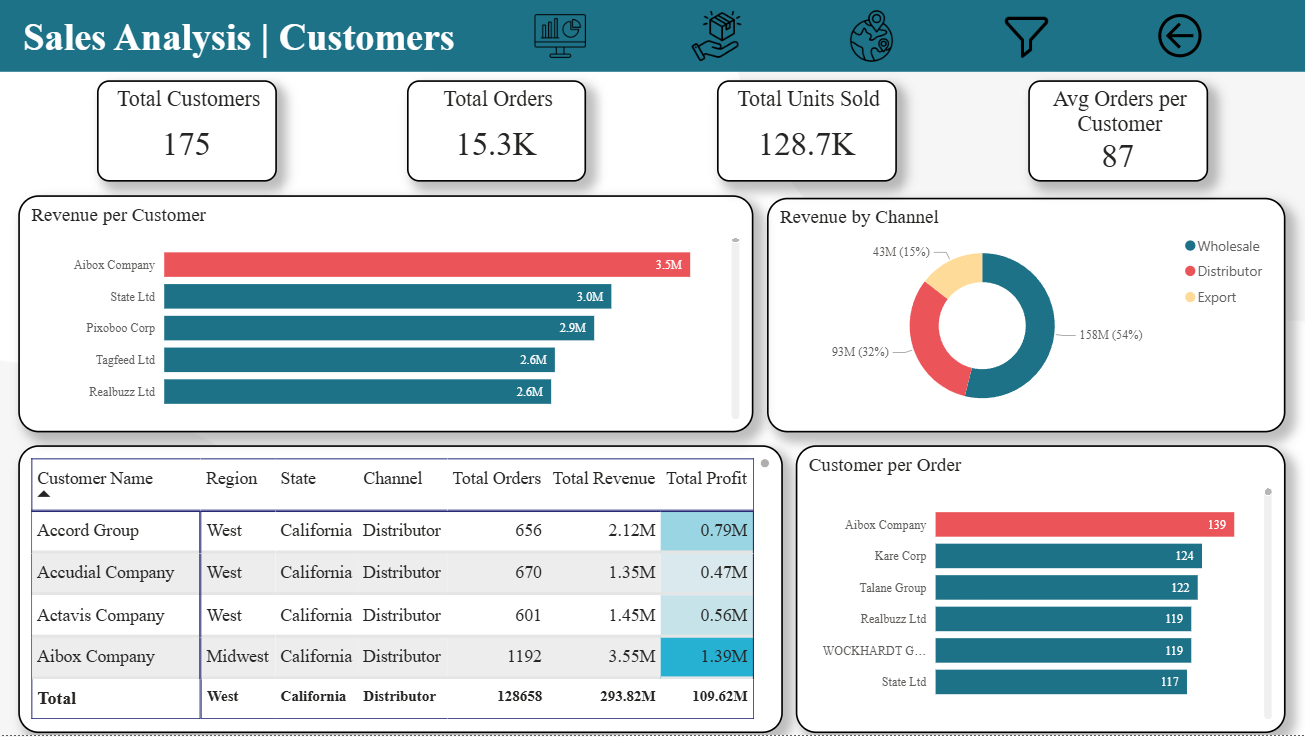

Layout of this report page (visuals, bound fields, positions):
{"tool":"powerbi","page":{"name":"Customers","canvas":[1280,720],"ordinal":3},"visuals":[{"type":"shape","box":[0,0,1280.3,71.4],"z":0},{"type":"textbox","box":[20.8,11,442.7,59.9],"z":1000},{"type":"pivotTable","fields":{"Rows":["sales.customer_name"],"Values":["_Measures.Top Customer Region","_Measures.Top Customer State","Min(sales.channel)","Sum(sales.order_quantity)","Sum(sales.revenue)","Sum(sales.profit)"]},"box":[20.8,436.6,748.4,281.3],"z":2000},{"type":"donutChart","title":"Revenue by Channel","fields":{"Category":["sales.channel"],"Y":["Sum(sales.revenue)"]},"box":[753.3,194.4,507.5,229.9],"z":3000},{"type":"card","title":"Total Customers","fields":{"Values":["Count(sales.customer_name)"]},"box":[97.5,79,176.1,99],"z":4000},{"type":"card","title":"Total Orders","fields":{"Values":["CountNonNull(sales.order_number)"]},"box":[401.5,79,174.9,99],"z":5000},{"type":"card","title":"Avg Orders per Customer","fields":{"Values":["_Measures.Avg Orders per Customer"]},"box":[1008.5,79,176.1,99],"z":6000},{"type":"clusteredBarChart","title":"Customer per Order","fields":{"Category":["sales.customer_name"],"Y":["CountNonNull(sales.order_number)"]},"box":[781.4,436.6,479.4,281.3],"z":7000},{"type":"clusteredBarChart","title":"Revenue per Customer","fields":{"Category":["sales.customer_name"],"Y":["Sum(sales.revenue)"]},"box":[20.8,192,719,232.3],"z":8000},{"type":"card","title":"Total Units Sold","fields":{"Values":["Sum(sales.order_quantity)"]},"box":[704.4,79,176.1,99],"z":9000},{"type":"image","title":"Slicer Image","box":[981.9,11.2,50,50],"z":10000},{"type":"image","box":[830,11.2,50,50],"z":12000},{"type":"image","box":[526.2,11.2,50,50],"z":13000},{"type":"image","box":[678.1,11.2,50,50],"z":14000},{"type":"actionButton","box":[1129.6,8.7,54.6,54.6],"z":15000}]}

Visuals, with their boxes in screenshot pixels (x1, y1, x2, y2), scaled from the page's 1280x720 canvas onto the 1305x737 screenshot:
shape: bbox=(0, 0, 1304, 73)
textbox: bbox=(21, 11, 473, 73)
pivotTable - sales.customer_name x _Measures.Top Customer Region: bbox=(21, 447, 784, 735)
"Revenue by Channel" donutChart: bbox=(768, 199, 1285, 434)
"Total Customers" card: bbox=(99, 81, 279, 182)
"Total Orders" card: bbox=(409, 81, 588, 182)
"Avg Orders per Customer" card: bbox=(1028, 81, 1208, 182)
"Customer per Order" clusteredBarChart: bbox=(797, 447, 1285, 735)
"Revenue per Customer" clusteredBarChart: bbox=(21, 197, 754, 434)
"Total Units Sold" card: bbox=(718, 81, 898, 182)
"Slicer Image" image: bbox=(1001, 11, 1052, 63)
image: bbox=(846, 11, 897, 63)
image: bbox=(536, 11, 587, 63)
image: bbox=(691, 11, 742, 63)
actionButton: bbox=(1152, 9, 1207, 65)
